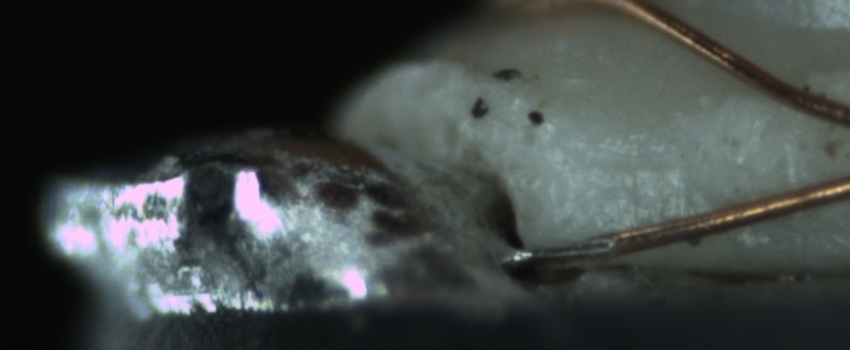DL: (570, 136, 690, 193)
TS: (516, 235, 610, 266)
TTCW: (510, 221, 672, 265)
